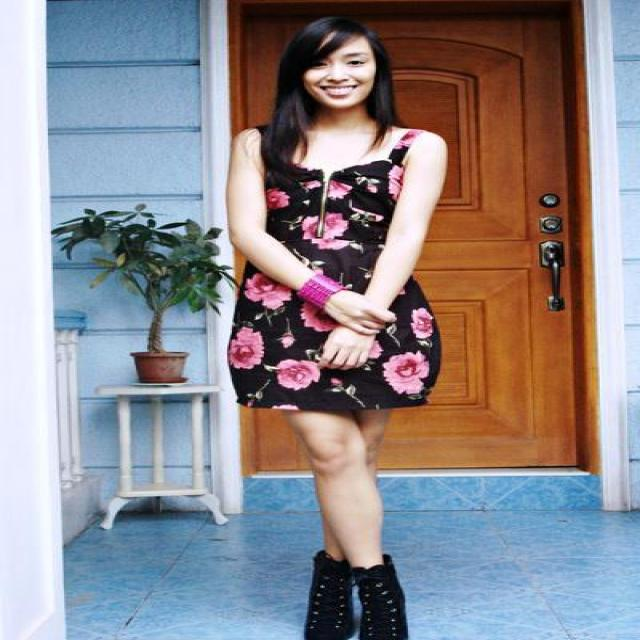dress: (227, 148, 440, 422)
shoe: (304, 550, 406, 639)
